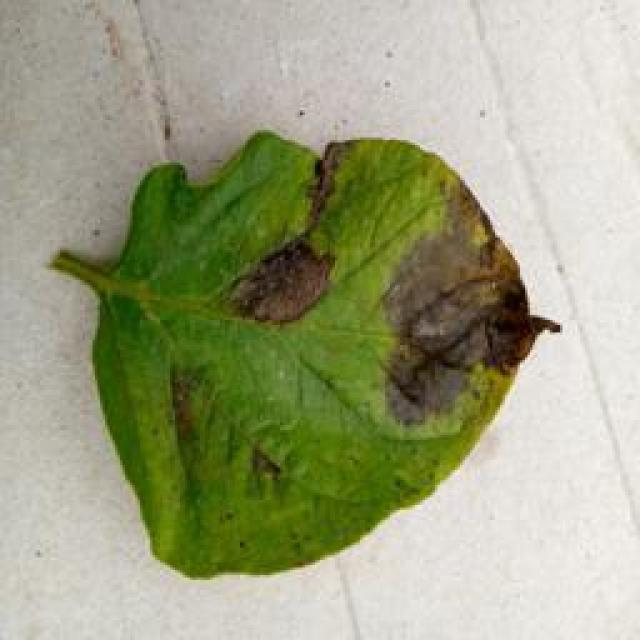late_blight: (45, 125, 560, 583)
